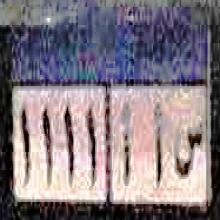1: (39, 103, 55, 186), (84, 101, 98, 186), (63, 105, 76, 181), (20, 104, 31, 180)
alif: (149, 99, 166, 184), (120, 102, 134, 190)
seen: (172, 120, 204, 175)
